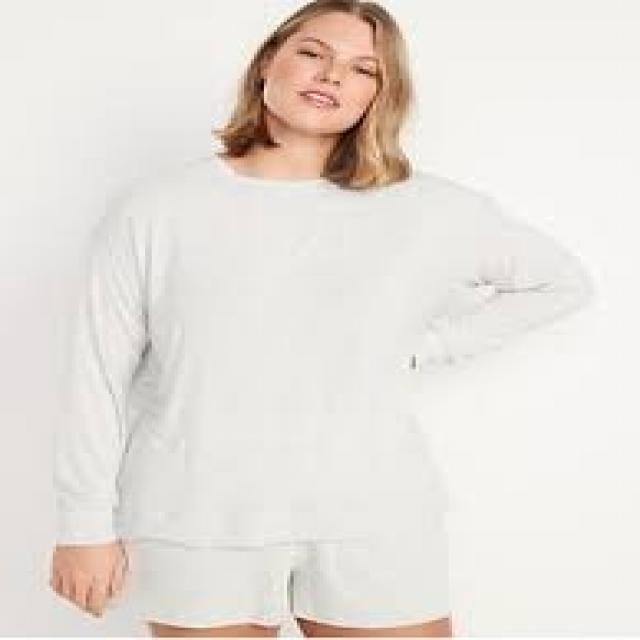plain: (49, 135, 600, 530)
